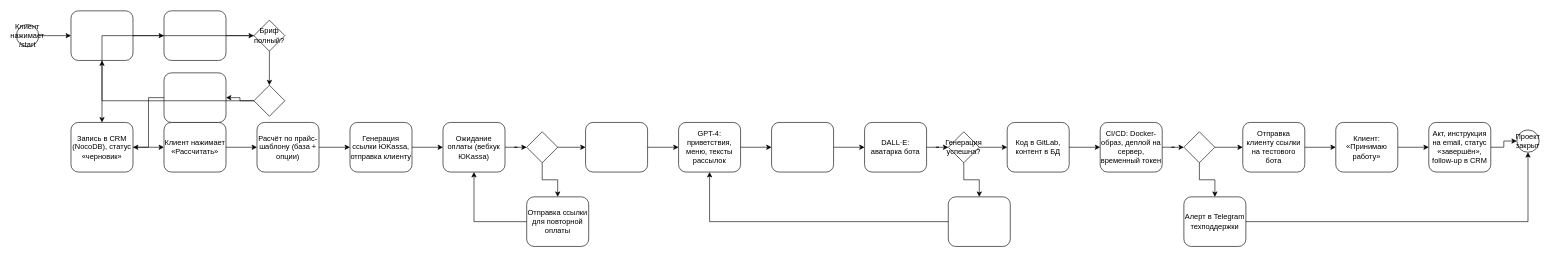
This 1551x257 diagram has some shape labels left out. The centre of each missing label's shape, as x and y in pixels:
"AI анализирует ответы и уточняет детали" goes at point 194,35.
"Codex/Completion: генерация Python-кода бота (шаблон aiogram)" goes at point 802,147.
"Деплой успешен?" goes at point 1199,147.
"Оплата успешна?" goes at point 542,147.
"Переспрос < 3 раз?" goes at point 269,100.
"Повтор до 3 раз, затем уведомление в Telegram команде" goes at point 979,221.
"Сбор брифа (вопросы: тип бота, функции, дизайн)" goes at point 101,35.
"Статус в CRM → «оплачено», чек клиенту" goes at point 616,147.
"Эскалация менеджеру" goes at point 194,97.
